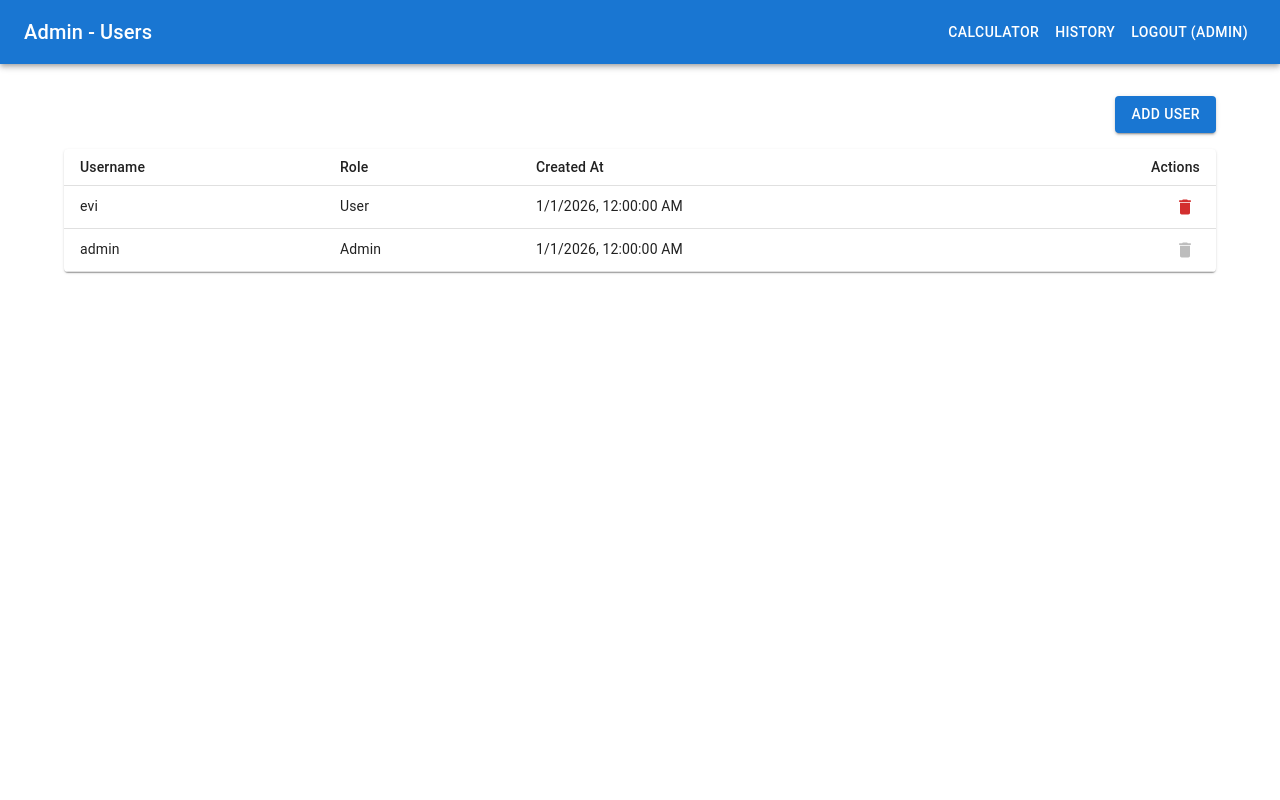
AdminUsers › create dialog shows duplicate username error on 409
expect the text "evi" is shown: met, box [64, 185, 324, 228]
Click the button "Add user". click: (1166, 114)
box: [1116, 96, 1216, 132]
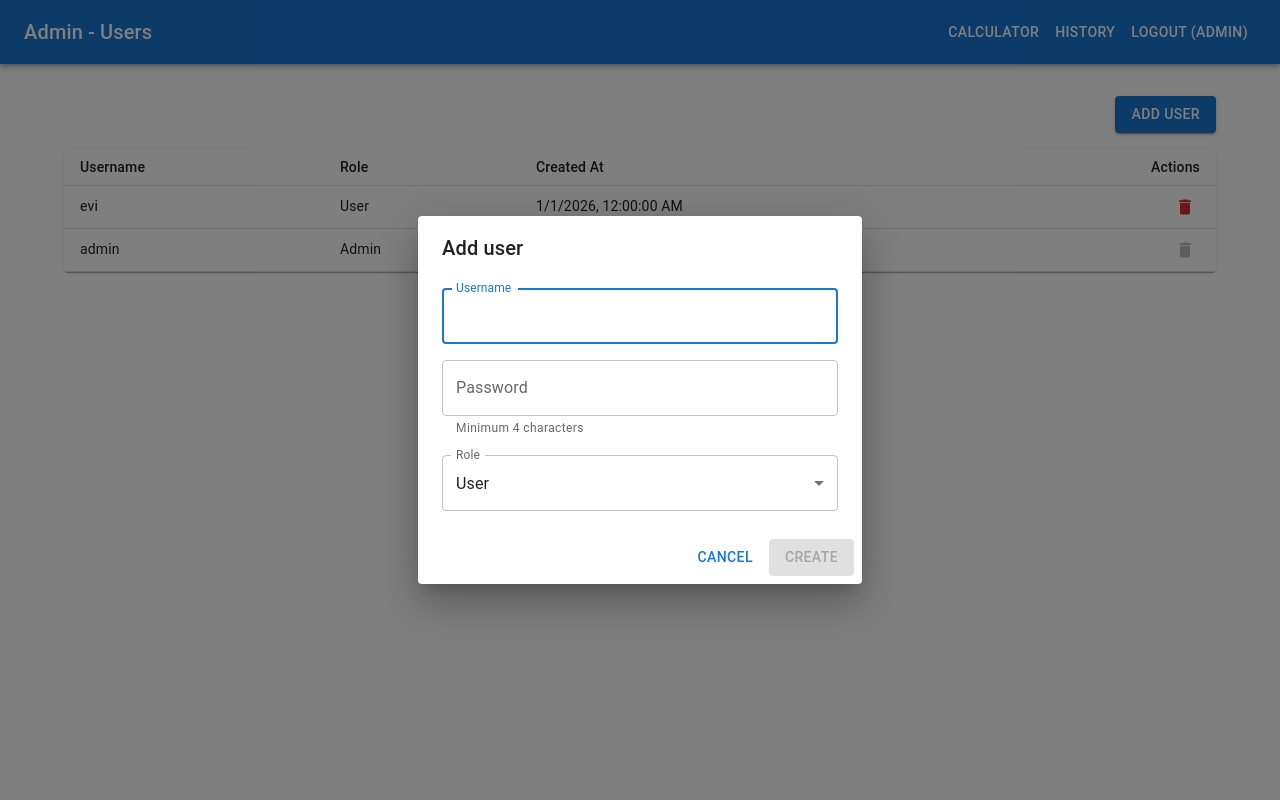
Type "evi" into the field labelled "Username". click: (640, 316)
box: [442, 288, 838, 344]
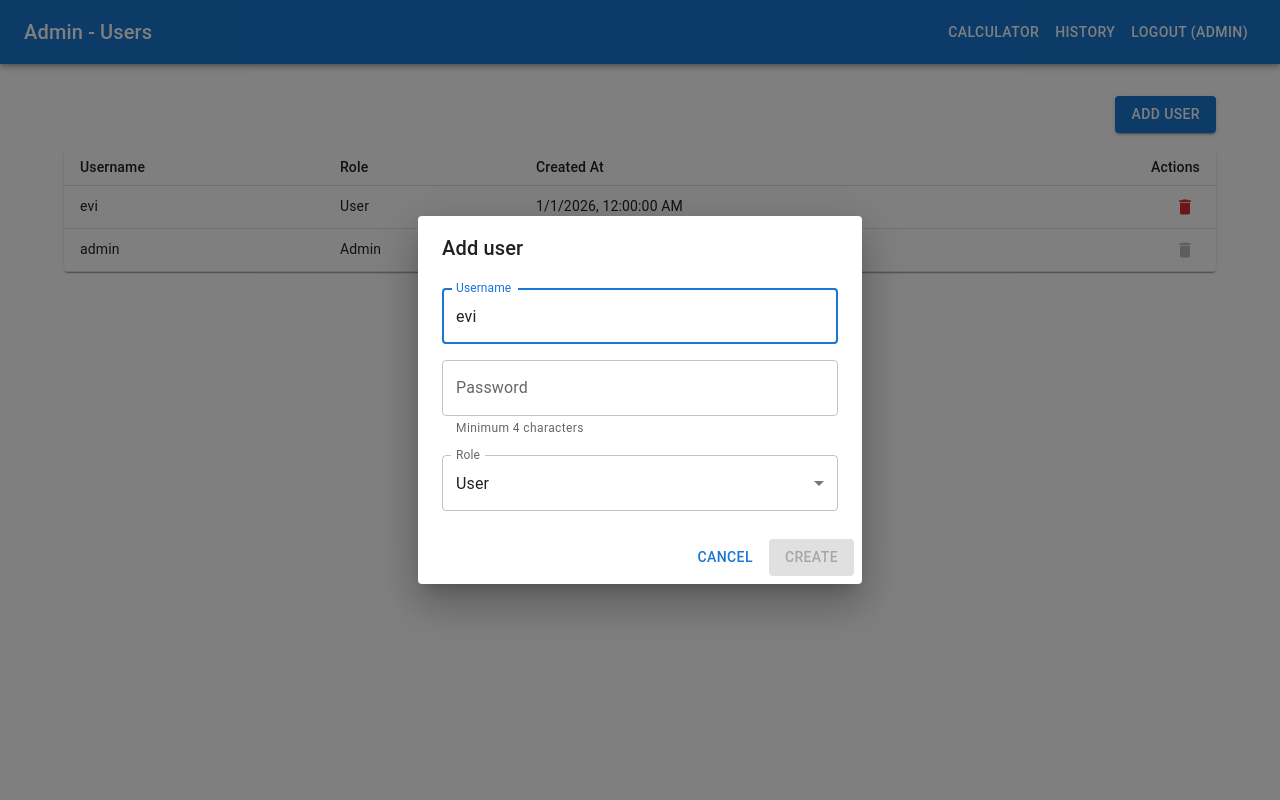
Type "pass123" into the password field labelled "Password". click: (640, 388)
box: [442, 360, 838, 416]
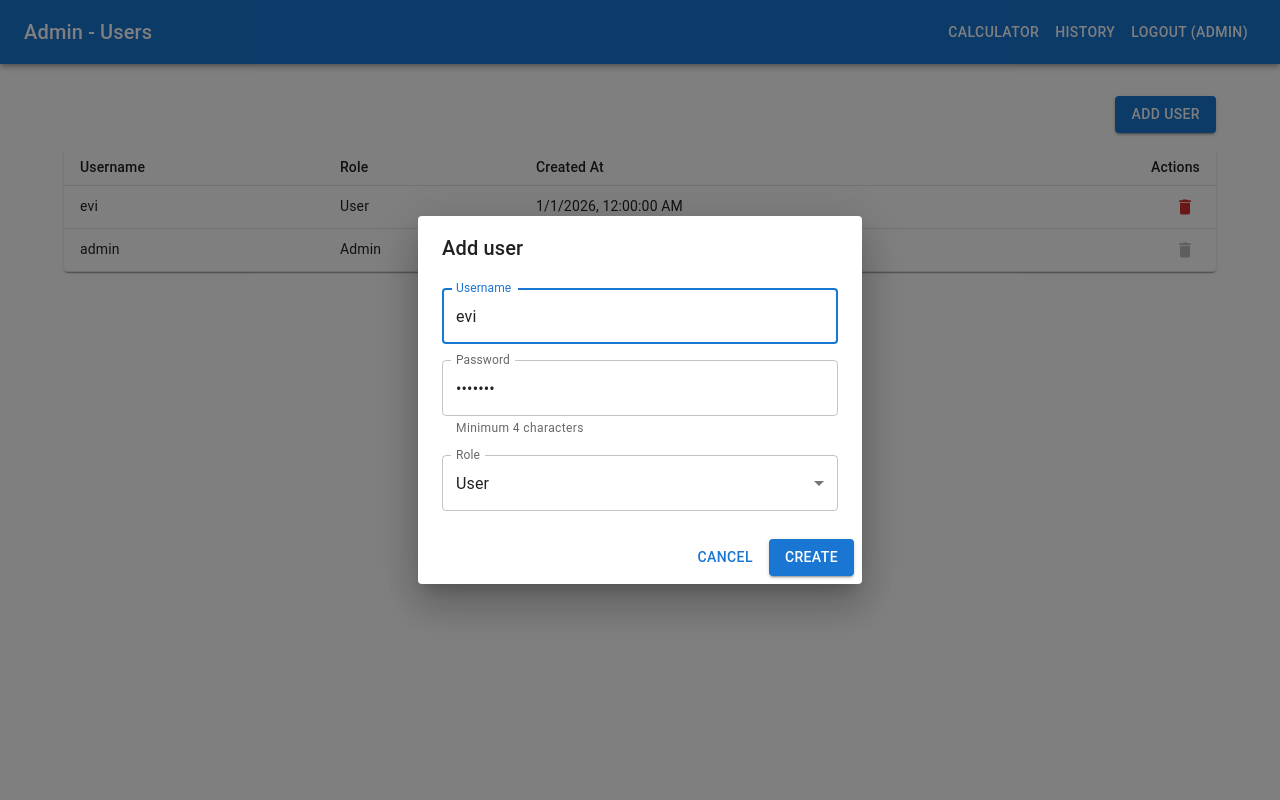
Click the button "Create". click: (811, 557)
box: [769, 539, 854, 576]
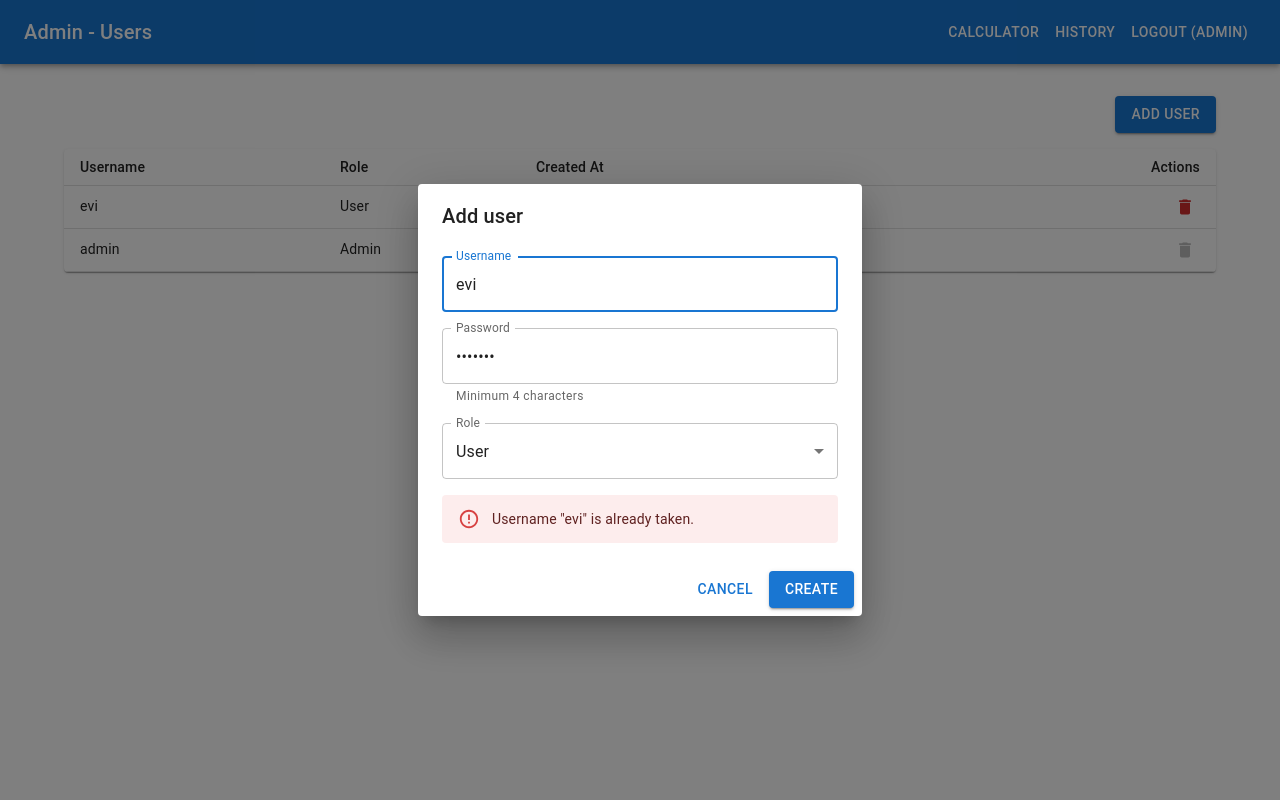
expect the dialog is shown: met, box [418, 184, 862, 616]
expect the text "Username \"evi\" is already taken." is shown: met, box [492, 511, 694, 527]
